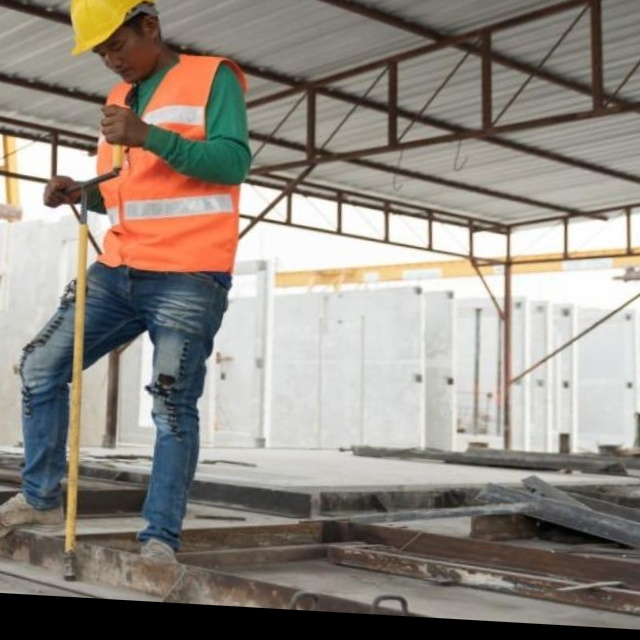Con_Casco: (64, 0, 161, 84)
Con_Chaleco: (87, 60, 250, 278)
